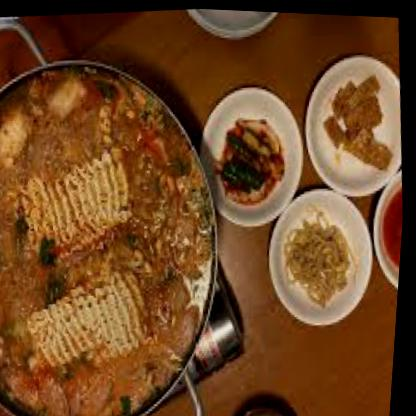budaejjigae: (0, 51, 232, 415)
cucumber kimchi: (210, 101, 297, 212)
radish Kimchi: (376, 180, 406, 282)
seasoned bean sprouts: (282, 206, 364, 310)
